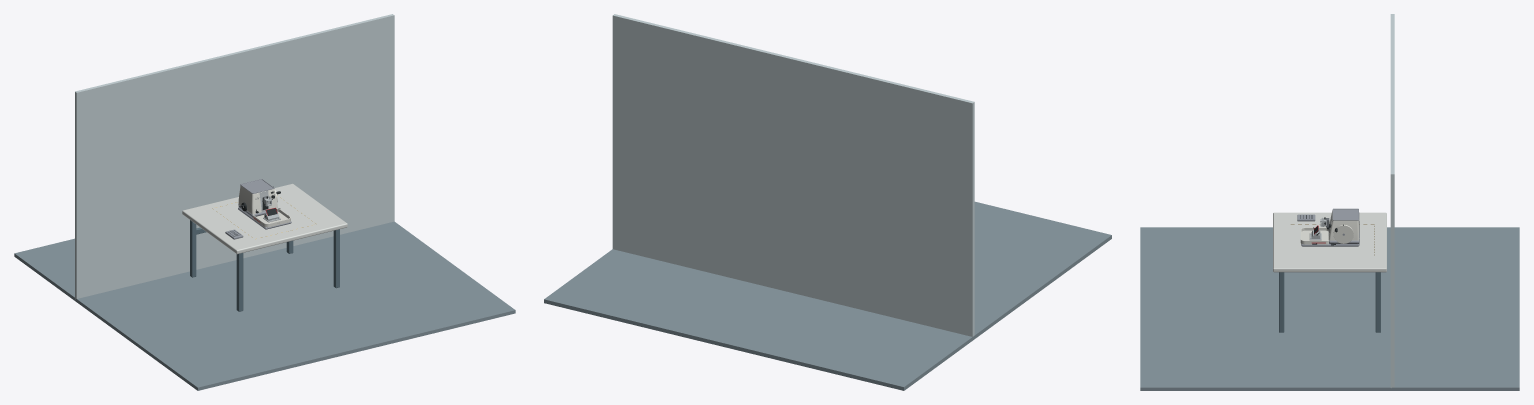
Rendered from biocut-exterior.glb.
3 renders of one model, left to right at view 1: azimuth 30°, elevation 25°; view 2: azimuth 150°, elevation 25°; view 3: azimuth 270°, elevation 25°, orthographic. The views are drawn at different scales.
Parts seen in each view (by area): view 1: env.wall, env.floor, env.bench.top, biocut.body, env.bench.leg-0-0; view 2: env.wall, env.floor; view 3: env.floor, env.bench.top, env.wall, biocut.waste-tray, biocut.body, env.bench.leg-1-0, env.bench.leg-1-1, biocut.top-tray.
Boxes of the visible parts, bbox=[...] form: env.wall: bbox=[75, 14, 394, 299]; env.floor: bbox=[14, 221, 515, 390]; env.bench.top: bbox=[182, 183, 347, 254]; biocut.body: bbox=[238, 185, 277, 214]; env.bench.leg-0-0: bbox=[236, 253, 243, 311]; env.wall: bbox=[612, 14, 974, 336]; env.floor: bbox=[544, 201, 1111, 390]; env.floor: bbox=[1140, 227, 1519, 390]; env.bench.top: bbox=[1273, 212, 1386, 272]; env.wall: bbox=[1390, 14, 1394, 387]; biocut.waste-tray: bbox=[1300, 227, 1328, 244]; biocut.body: bbox=[1328, 210, 1359, 240]; env.bench.leg-1-0: bbox=[1279, 272, 1284, 332]; env.bench.leg-1-1: bbox=[1375, 272, 1380, 332]; biocut.top-tray: bbox=[1332, 208, 1358, 220].
Size of the model in its own units: 4 by 2.52 by 4.
